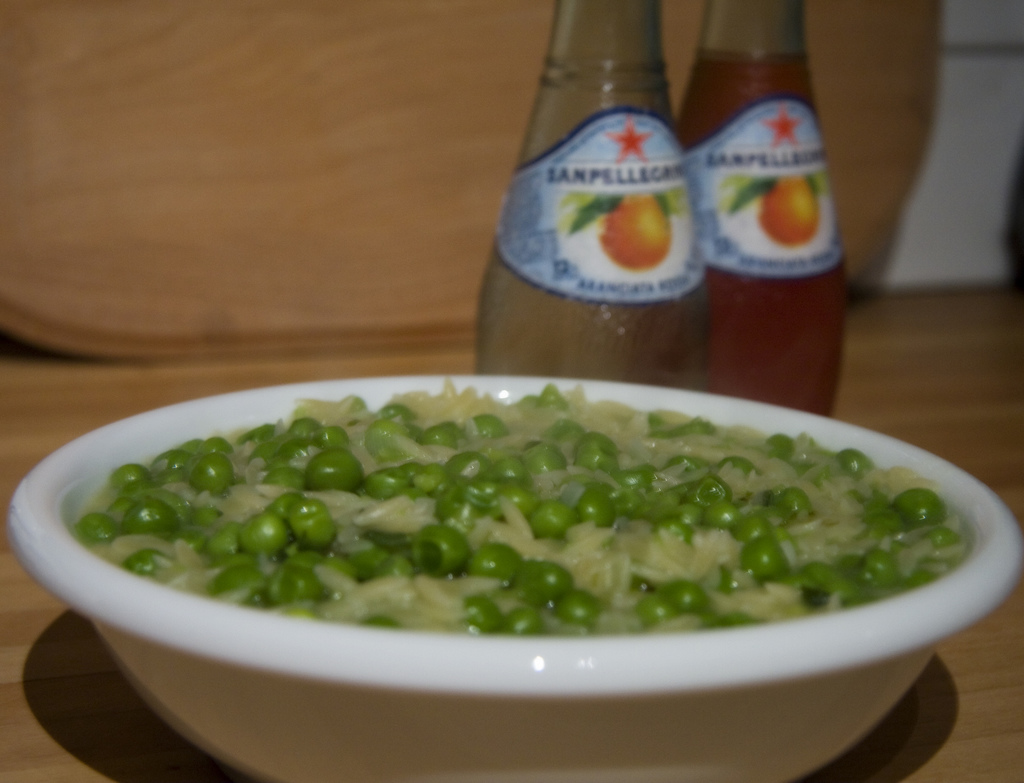boiled peas: (173, 427, 883, 583)
